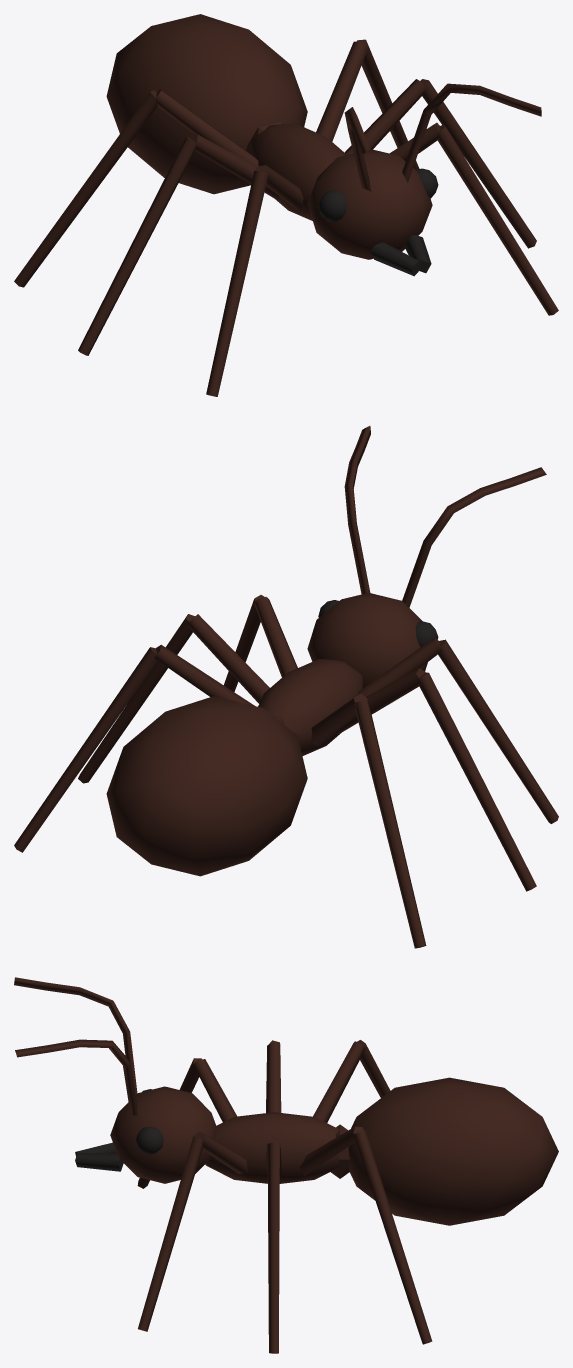
File: ant.glb
3 views of the same model, one above another, from view 1: azimuth 30°, elevation 25°; view 2: azimuth 150°, elevation 25°; view 3: azimuth 270°, elevation 25° (orthographic). The views are drawn at different scales.
Parts seen in each view (by area): view 1: ant; view 2: ant; view 3: ant.
Part boxes in pixels (x1,y1,x2,y2): ant: (14, 14, 558, 396); ant: (14, 426, 558, 948); ant: (14, 977, 558, 1353).
Size of the model in its own units: 1.26 by 0.746 by 1.49.
